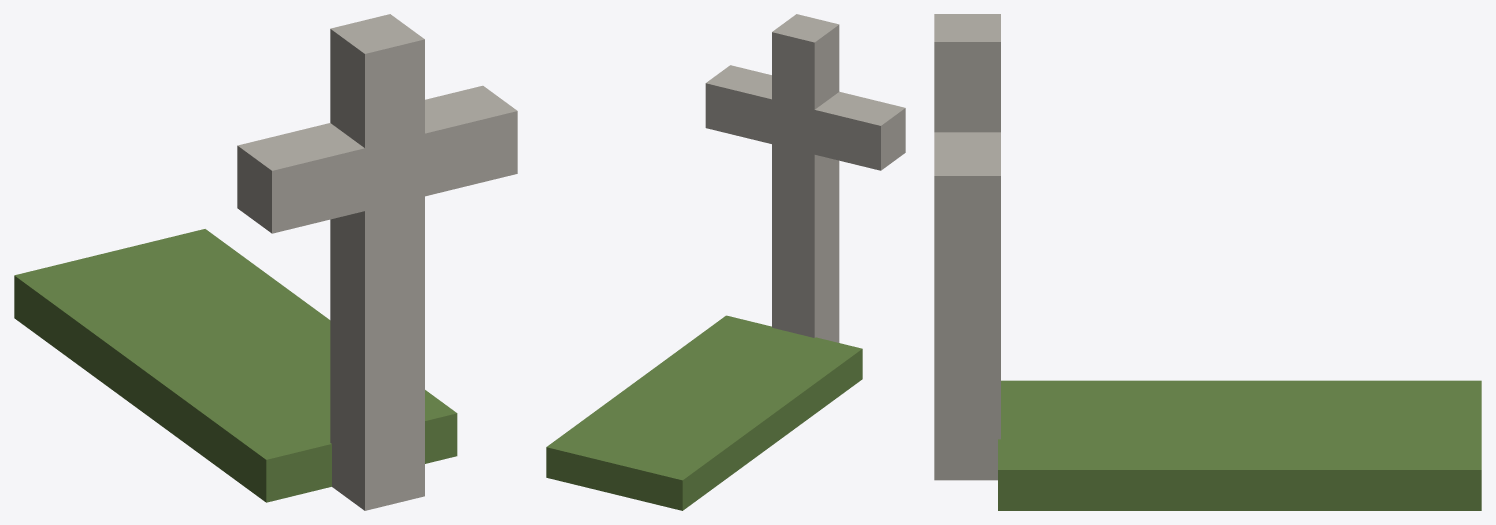
Rendered from grave_cross.glb.
3 renders of one model, left to right at view 1: azimuth 30°, elevation 25°; view 2: azimuth 150°, elevation 25°; view 3: azimuth 270°, elevation 25°, orthographic. The views are drawn at different scales.
Visible parts, largest first — view 1: grave_cross; view 2: grave_cross; view 3: grave_cross.
Part boxes in pixels (x1=…): grave_cross: x1=14, y1=14, x2=517, y2=510; grave_cross: x1=546, y1=14, x2=905, y2=510; grave_cross: x1=934, y1=14, x2=1481, y2=510.
Size of the model in its own units: 0.9 by 1.6 by 1.81.
